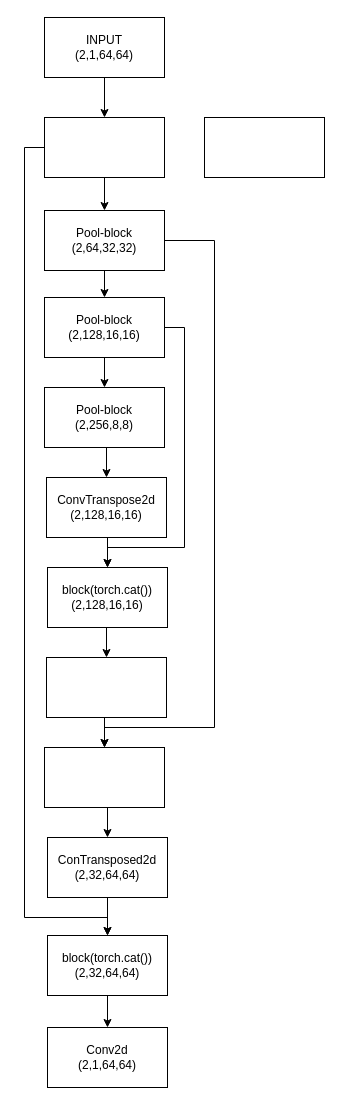
Image size: 342x1105. Some labels were removed from this diagram. The centre of each missing label's shape, as x and y in pixels:
block (2,32,64,64): the point at 104,147
block(torch.cat()) (2,64,32,32): the point at 104,777
block: Con2d-ReLU-Conv2d-ReLU: the point at 264,147
ConTransposed2d (2,64,32,32): the point at 106,687
